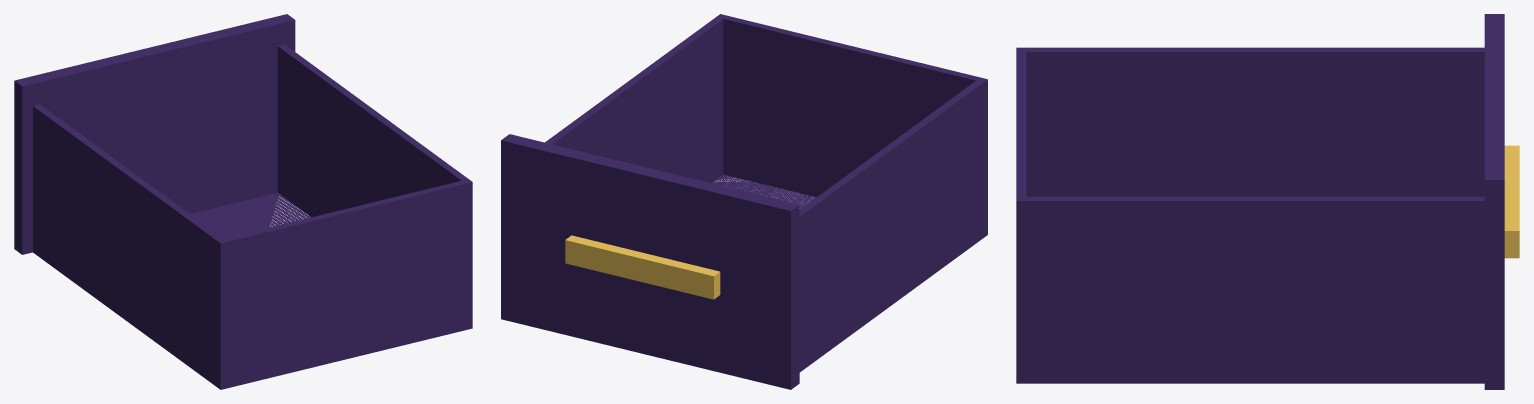
The model's file is gaveta_cor.gltf.
3 renders of one model, left to right at view 1: azimuth 30°, elevation 25°; view 2: azimuth 150°, elevation 25°; view 3: azimuth 270°, elevation 25°, orthographic. The views are drawn at different scales.
Visible parts, largest first — view 1: lateral (×2), posterior, frente, fundo; view 2: frente, lateral (×2), posterior, puxador, fundo; view 3: lateral (×2), frente, posterior, puxador.
Boxes of the visible parts, bbox=[...] form: lateral (×2): bbox=[33, 44, 469, 387]; posterior: bbox=[216, 179, 472, 389]; frente: bbox=[14, 14, 295, 254]; fundo: bbox=[190, 192, 310, 238]; frente: bbox=[501, 134, 799, 389]; lateral (×2): bbox=[545, 15, 985, 372]; posterior: bbox=[717, 14, 987, 237]; puxador: bbox=[565, 235, 720, 299]; fundo: bbox=[712, 174, 816, 209]; lateral (×2): bbox=[1021, 47, 1484, 383]; frente: bbox=[1484, 14, 1504, 389]; posterior: bbox=[1016, 47, 1026, 383]; puxador: bbox=[1504, 145, 1519, 258].
Size of the model in its own units: 0.4875 by 0.2875 by 0.625.
Materials: 5 (2 with a texture image).
